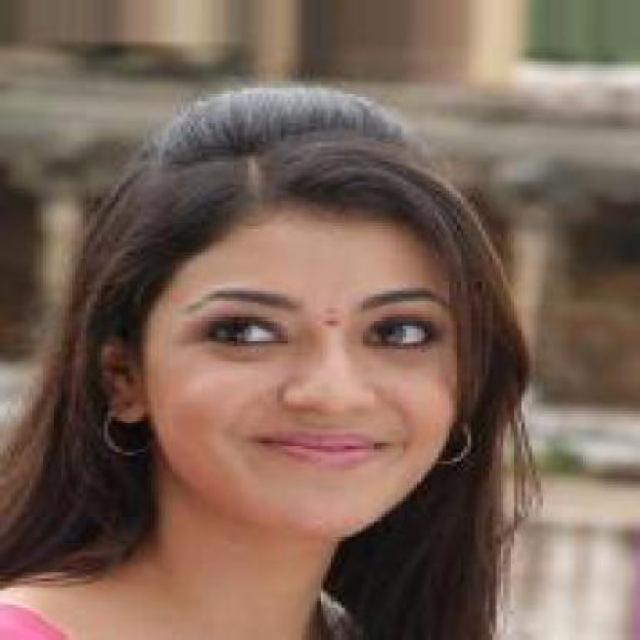closed-mouth: (259, 426, 387, 471)
